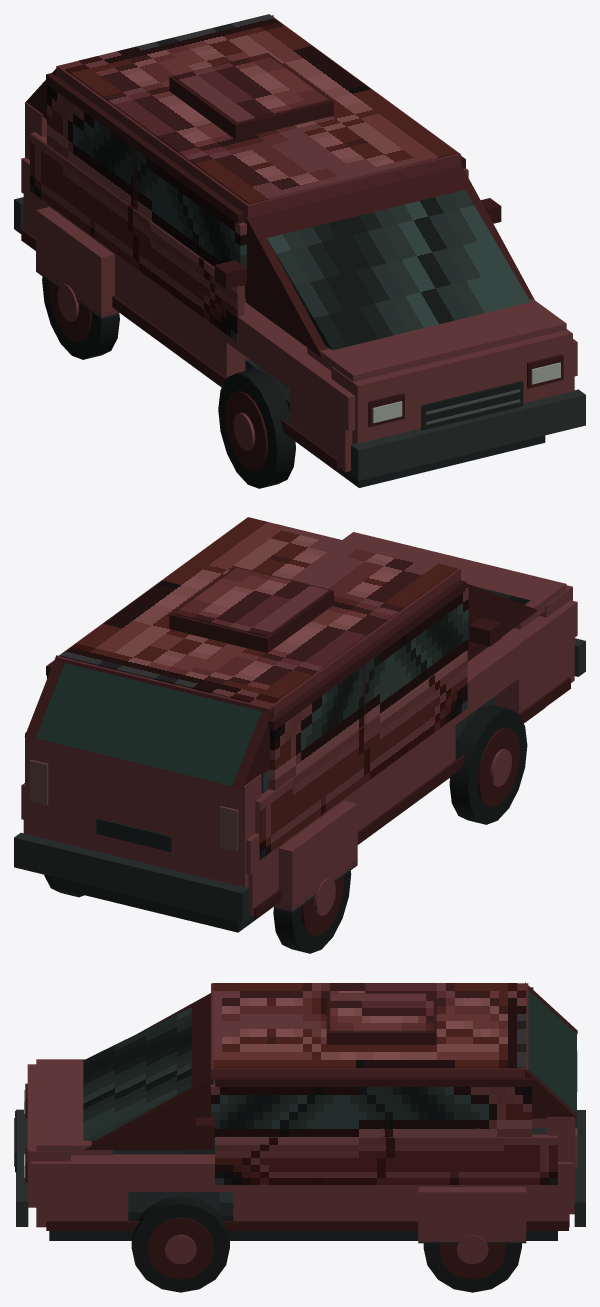
File: CMU3DRMCPropVehicleMonoSupronRedFlipped.glb
The picture shows the model from 3 angles, top to bottom: view 1: azimuth 30°, elevation 25°; view 2: azimuth 150°, elevation 25°; view 3: azimuth 270°, elevation 25°; orthographic projection. The views are drawn at different scales.
Parts seen in each view (by area): view 1: source roof panel, continuous sloped windshield, painted side door -1 0, side glazing -1 0, sloping windshield surround, nose lower panel, front bumper, hood top, upper wheel arch rail -1, roof base, roof pod original top, rear wheel cover (+17 smaller); view 2: source roof panel, rear tailgate, raked rear glazing, painted side door -1 0, side glazing -1 0, rear black bumper, upper wheel arch rail -1, roof pod original top, rear wheel cover, tire 1 -1, lower skirt -1 1, hood top (+18 smaller); view 3: source roof panel, painted side door 1 0, side glazing 1 0, continuous sloped windshield, lower skirt 1 1, sloping windshield surround, upper wheel arch rail 1, rear wheel cover, hood top, chassis dark underside, tire 1 1, roof pod original top (+20 smaller).
Boxes of the visible parts, <box> form: source roof panel: <box>65,14,457,204</box>; continuous sloped windshield: <box>267,190,530,350</box>; painted side door -1 0: <box>30,133,237,341</box>; side glazing -1 0: <box>47,84,246,285</box>; sloping windshield surround: <box>245,164,534,358</box>; nose lower panel: <box>331,329,572,444</box>; front bumper: <box>351,389,585,480</box>; hood top: <box>307,299,566,381</box>; upper wheel arch rail -1: <box>21,157,355,431</box>; roof base: <box>56,14,460,218</box>; roof pod original top: <box>174,54,328,122</box>; rear wheel cover: <box>36,207,119,317</box>; source roof panel: <box>60,517,457,703</box>; rear tailgate: <box>25,732,261,887</box>; raked rear glazing: <box>35,663,261,785</box>; painted side door -1 0: <box>259,651,467,859</box>; side glazing -1 0: <box>268,588,468,790</box>; rear black bumper: <box>14,832,249,922</box>; upper wheel arch rail -1: <box>246,600,577,874</box>; roof pod original top: <box>174,567,328,636</box>; rear wheel cover: <box>274,800,357,911</box>; tire 1 -1: <box>449,704,527,824</box>; lower skirt -1 1: <box>343,718,455,831</box>; hood top: <box>343,532,566,629</box>; source roof panel: <box>213,983,526,1068</box>; painted side door 1 0: <box>215,1137,557,1184</box>; side glazing 1 0: <box>211,1084,531,1136</box>; continuous sloped windshield: <box>83,1007,191,1140</box>; lower skirt 1 1: <box>233,1185,419,1220</box>; sloping windshield surround: <box>85,993,212,1149</box>; upper wheel arch rail 1: <box>31,1154,573,1191</box>; rear wheel cover: <box>418,1187,526,1241</box>; hood top: <box>36,1059,112,1155</box>; chassis dark underside: <box>49,1150,557,1240</box>; tire 1 1: <box>131,1196,229,1292</box>; roof pod original top: <box>330,993,433,1031</box>.
Bounding box in the file's own units: 0.9117 × 0.8778 × 1.98.
Materials: 23 (5 with a texture image).
